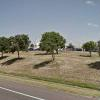Tree: (36, 23, 67, 66)
